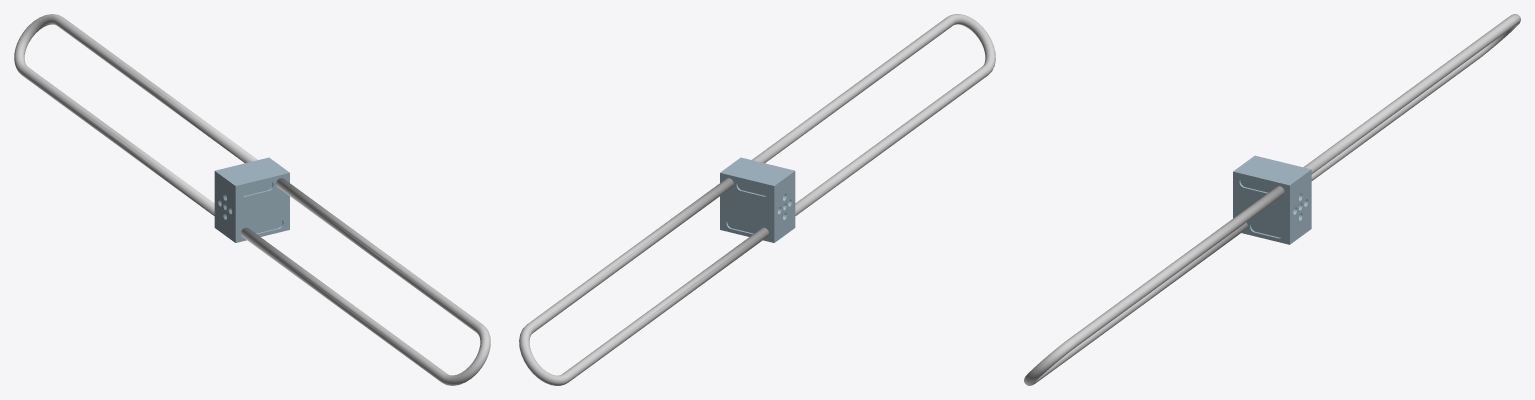
File: communications_module.dae
3 renders of one model, left to right at view 1: azimuth 30°, elevation 25°; view 2: azimuth 150°, elevation 25°; view 3: azimuth 330°, elevation 25°, orthographic. The views are drawn at different scales.
Parts seen in each view (by area): view 1: Body1.002; view 2: Body1.002; view 3: Body1.002.
Part boxes in pixels (<box>): Body1.002: <box>14,14,490,385</box>; Body1.002: <box>519,14,995,385</box>; Body1.002: <box>1024,14,1520,385</box>.
Bounding box in the file's own units: 0.0762 × 1.1 × 0.0762.
